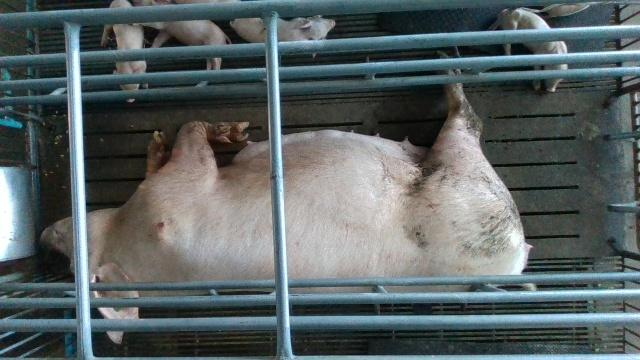piglet: (134, 0, 233, 70), (498, 9, 568, 91), (102, 0, 149, 103), (231, 16, 337, 56)
sow-sleep-lactate: (40, 50, 542, 344)
